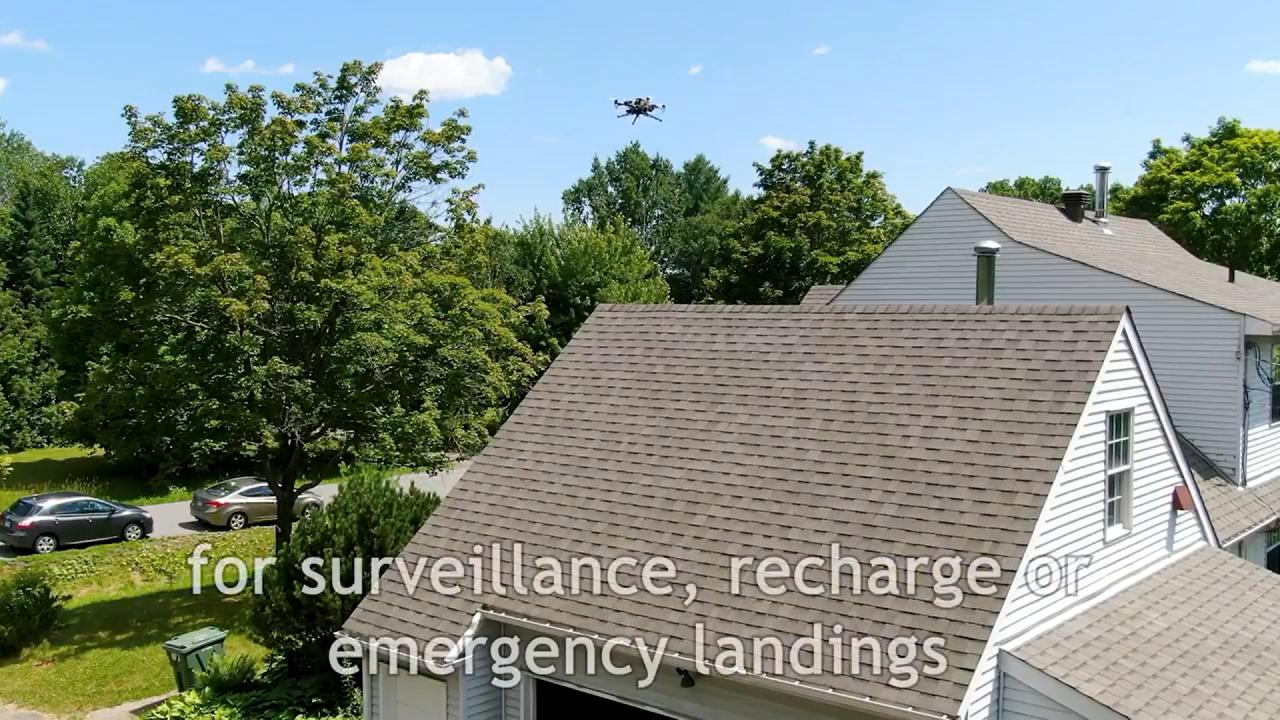Drone: (601, 86, 676, 132)
